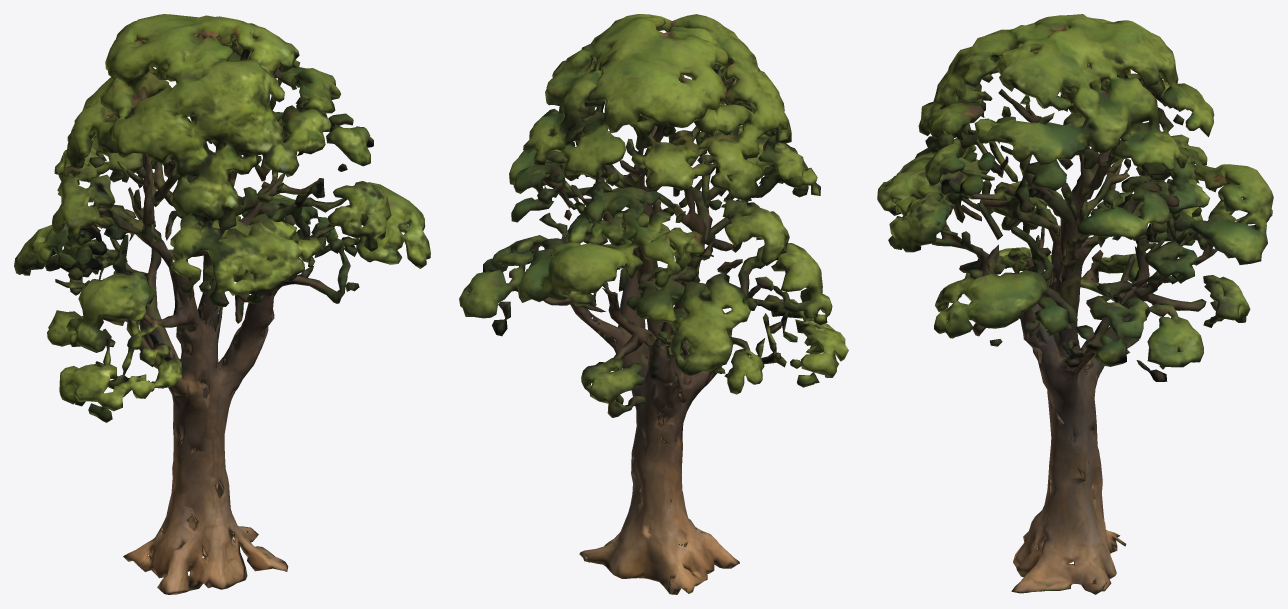
File: AI_OakTree.fbx
The picture shows the model from 3 angles, left to right: view 1: azimuth 30°, elevation 25°; view 2: azimuth 150°, elevation 25°; view 3: azimuth 270°, elevation 25°; orthographic projection.
Parts seen in each view (by area): view 1: Mesh_0; view 2: Mesh_0; view 3: Mesh_0.
Boxes of the visible parts, x1=… form: Mesh_0: x1=14, y1=14, x2=430, y2=594; Mesh_0: x1=459, y1=14, x2=848, y2=594; Mesh_0: x1=877, y1=14, x2=1273, y2=594.
Bounding box in the file's own units: 132 × 202 × 133.
1 material, 1 textured.
